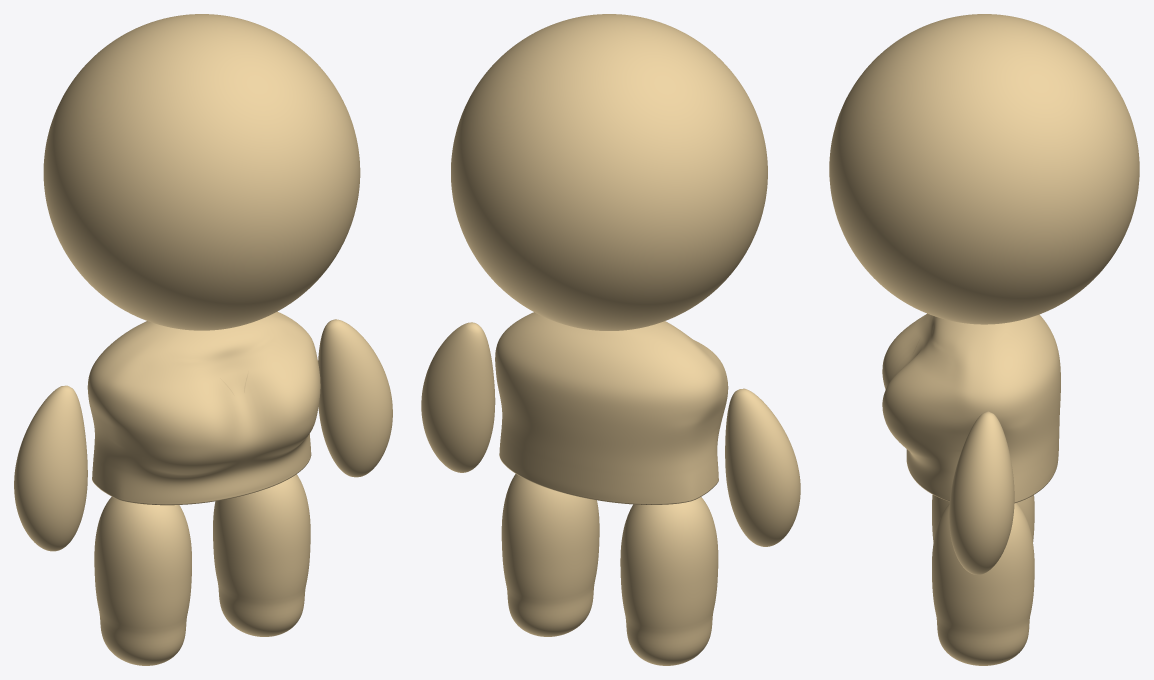
Rendered from Feminine-Feminine-pants-clothed-base263-8fa7df47.glb.
3 renders of one model, left to right at view 1: azimuth 30°, elevation 25°; view 2: azimuth 150°, elevation 25°; view 3: azimuth 270°, elevation 25°, orthographic. The views are drawn at different scales.
Visible parts, largest first — view 1: Skin / soft oval head, Skin / rounded torso, Skin / pants fitted leg -1, Skin / pants fitted leg 1, Skin / swept arm -1, Skin / swept arm 1; view 2: Skin / soft oval head, Skin / rounded torso, Skin / pants fitted leg -1, Skin / pants fitted leg 1, Skin / swept arm -1, Skin / swept arm 1; view 3: Skin / soft oval head, Skin / rounded torso, Skin / pants fitted leg 1, Skin / swept arm 1, Skin / pants fitted leg -1.
Boxes of the visible parts, bbox=[...] form: Skin / soft oval head: bbox=[43, 14, 360, 330]; Skin / rounded torso: bbox=[87, 311, 320, 505]; Skin / pants fitted leg -1: bbox=[94, 497, 191, 665]; Skin / pants fitted leg 1: bbox=[213, 474, 310, 636]; Skin / swept arm -1: bbox=[14, 385, 87, 551]; Skin / swept arm 1: bbox=[318, 319, 392, 477]; Skin / soft oval head: bbox=[451, 14, 767, 330]; Skin / rounded torso: bbox=[495, 312, 728, 504]; Skin / pants fitted leg -1: bbox=[620, 497, 718, 665]; Skin / pants fitted leg 1: bbox=[501, 474, 599, 636]; Skin / swept arm -1: bbox=[725, 388, 800, 546]; Skin / swept arm 1: bbox=[421, 322, 495, 472]; Skin / soft oval head: bbox=[829, 14, 1139, 324]; Skin / rounded torso: bbox=[882, 313, 1060, 502]; Skin / pants fitted leg 1: bbox=[932, 503, 1034, 665]; Skin / swept arm 1: bbox=[949, 411, 1014, 574]; Skin / pants fitted leg -1: bbox=[932, 495, 1034, 542].
Bounding box in the file's own units: 1.04 × 1.65 × 0.768.
